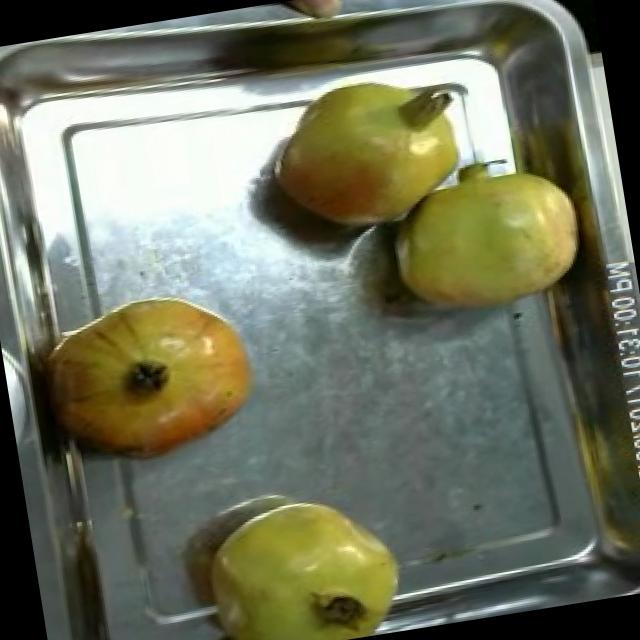fruit: (30, 276, 278, 485), (243, 55, 488, 259), (364, 128, 604, 334), (179, 475, 424, 640)
